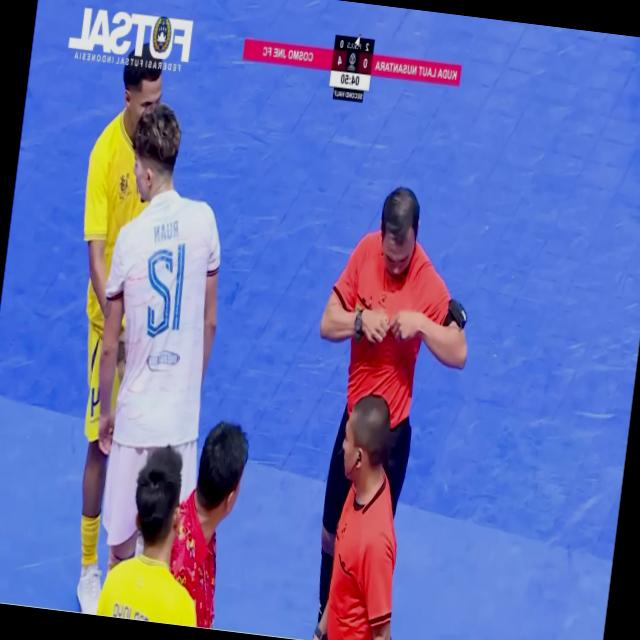referee: (317, 188, 466, 617), (313, 395, 395, 639)
